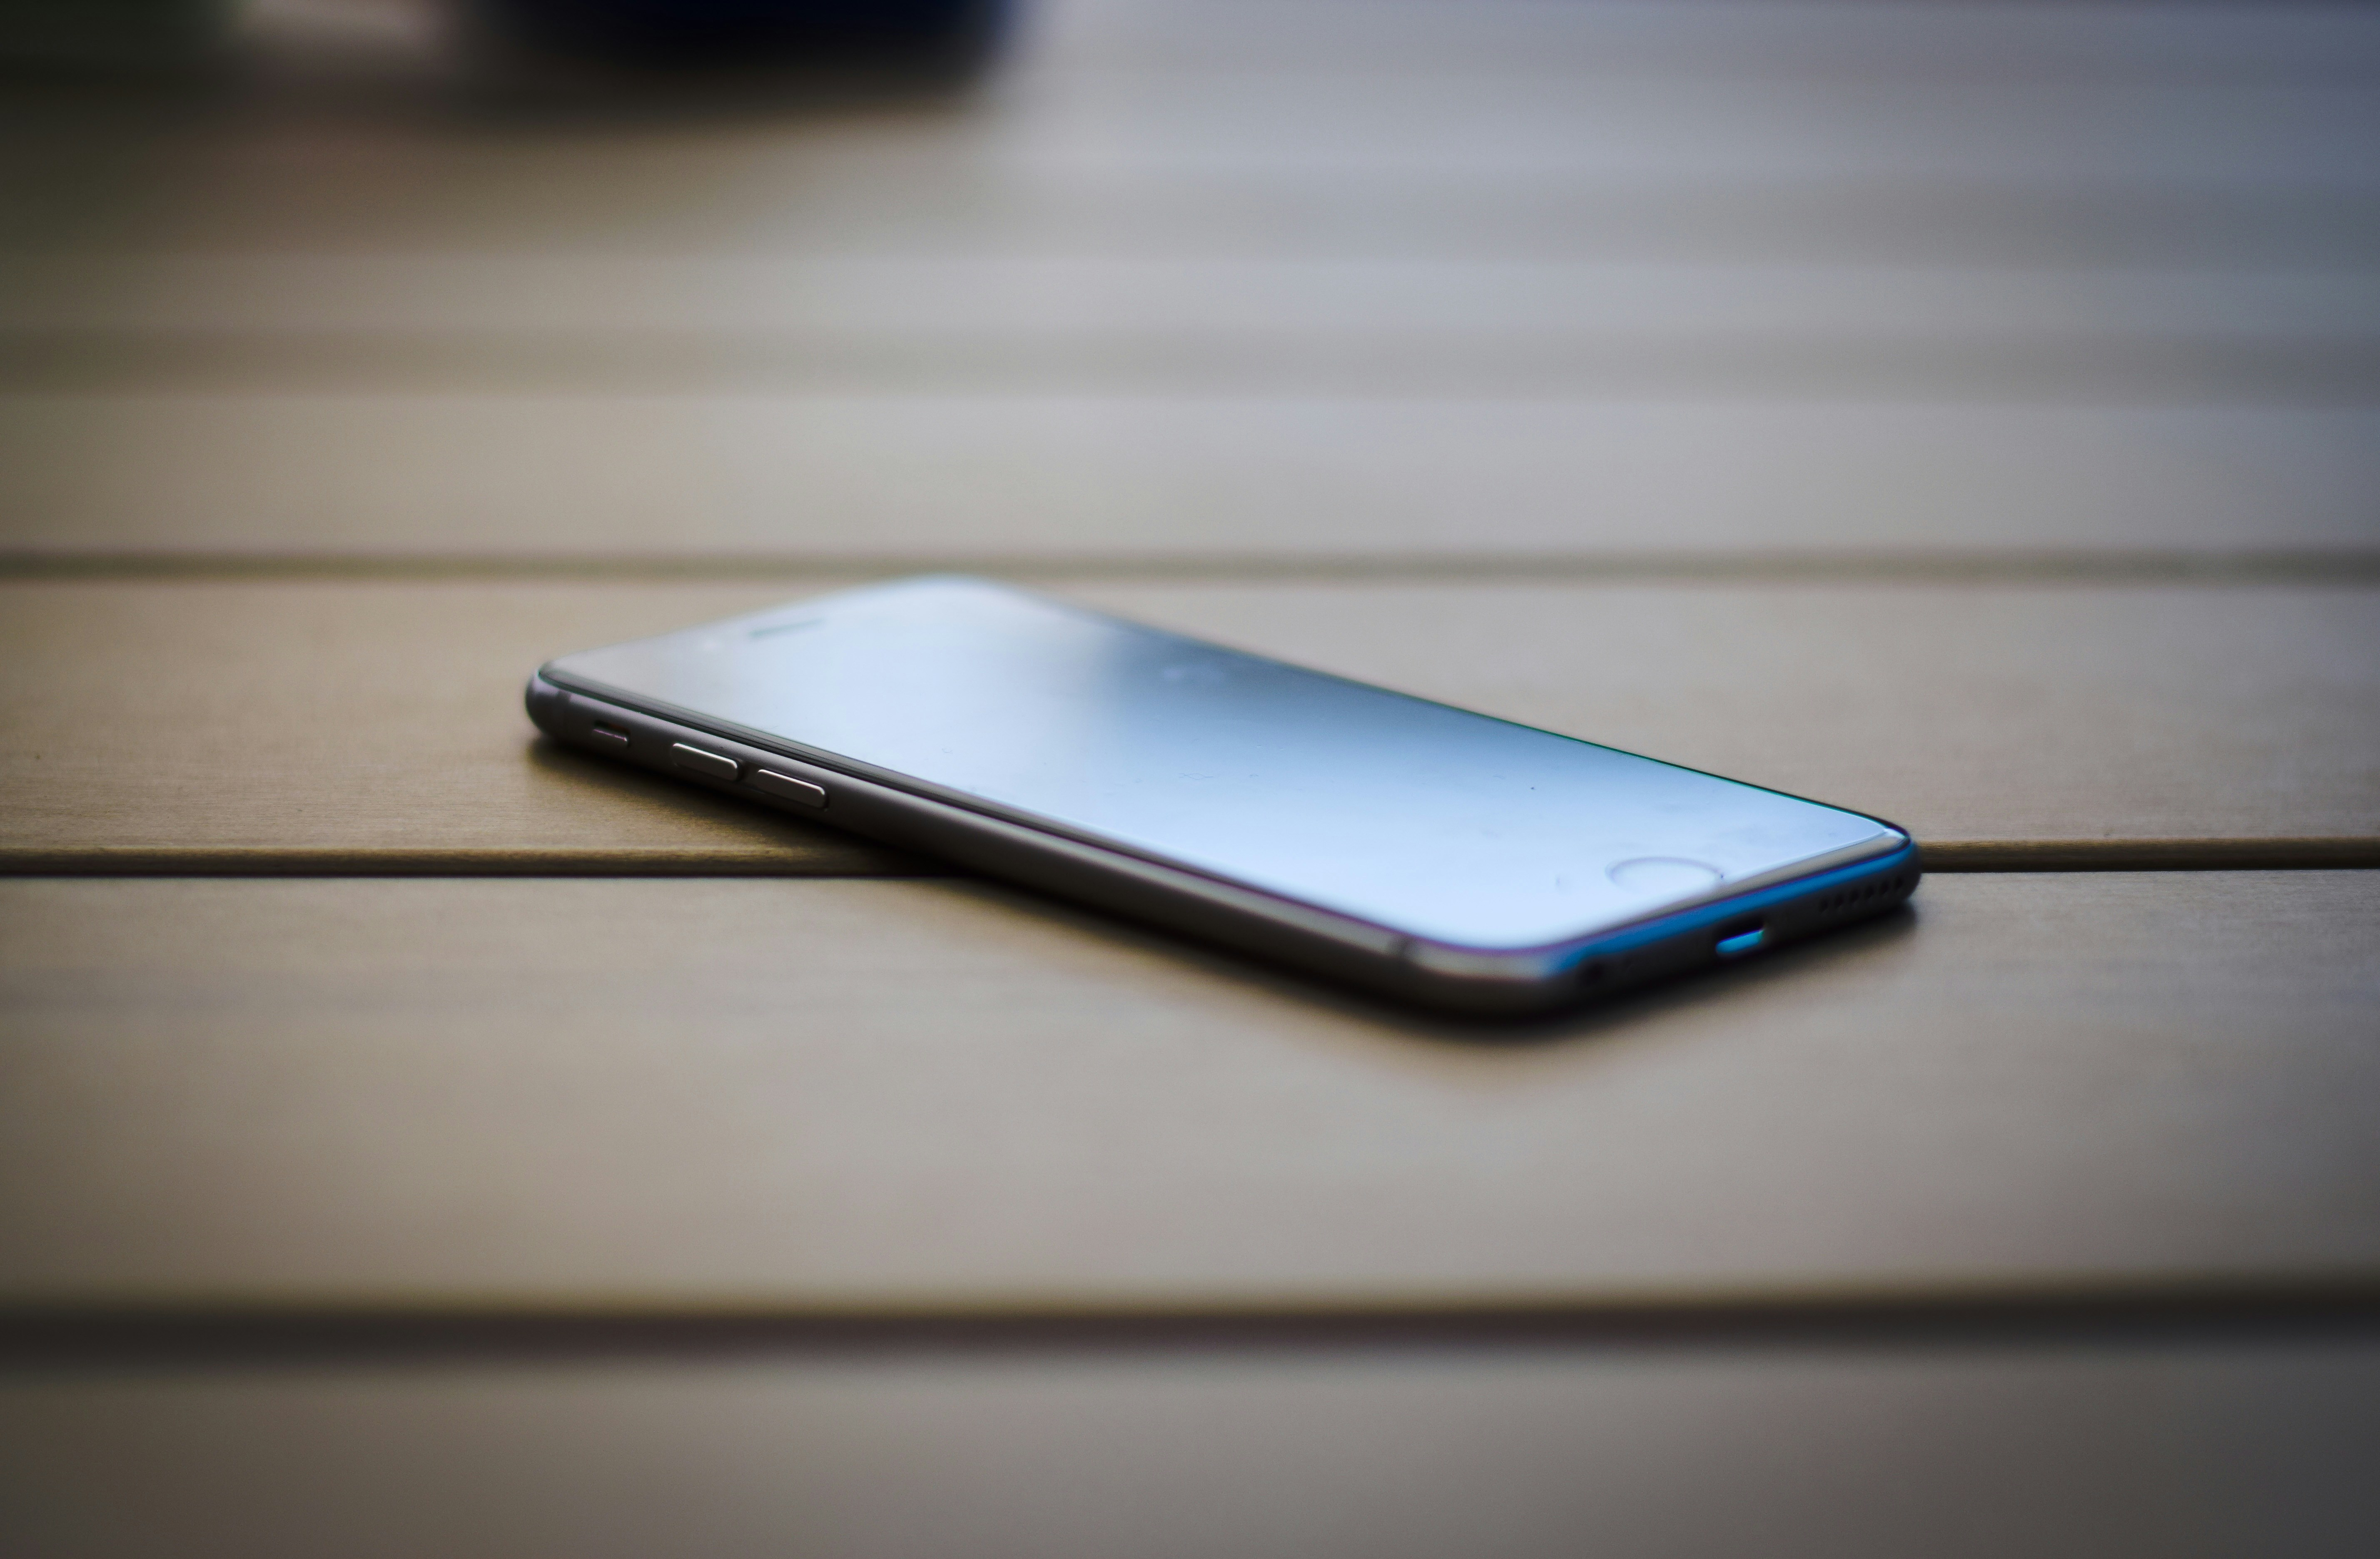p6: (522, 543, 1950, 1034)
